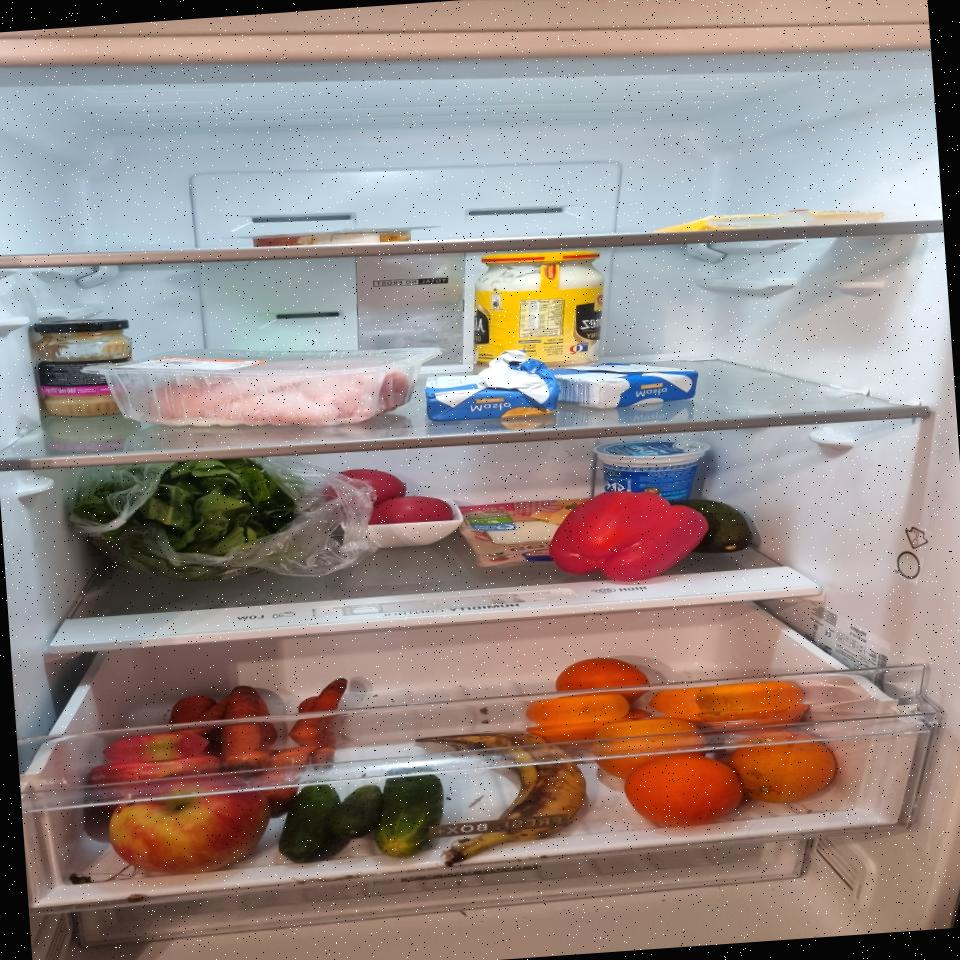Aguacate: (670, 494, 752, 558)
Carne pollo: (78, 333, 445, 443)
Lechuga/Endivia: (65, 450, 311, 591)
Mantequilla: (422, 348, 560, 422), (540, 356, 699, 413)
Manzana: (106, 768, 272, 880), (88, 728, 224, 832)
Pepino: (276, 764, 448, 866)
Plátano: (414, 724, 592, 867)
Queso: (458, 497, 595, 569), (652, 204, 884, 240)
Tomate: (320, 466, 409, 509), (368, 494, 454, 526)
Yogur: (592, 435, 716, 506)
Zanahoria: (164, 678, 356, 822)
